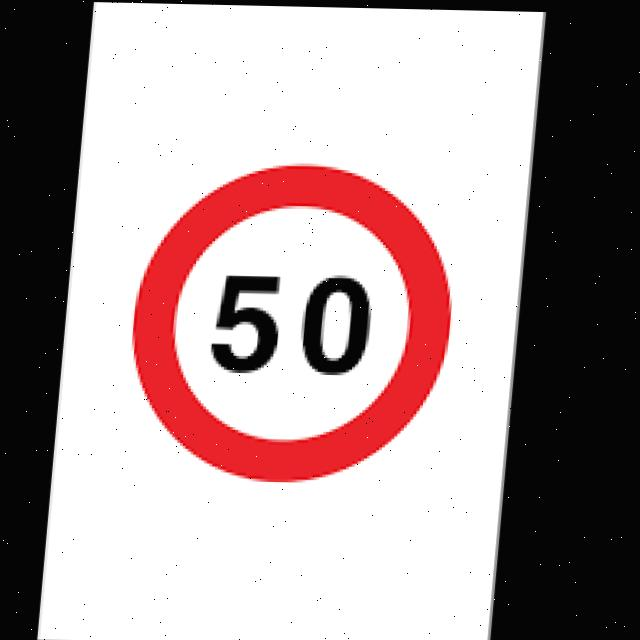Speed limit 50: (124, 155, 471, 487)
